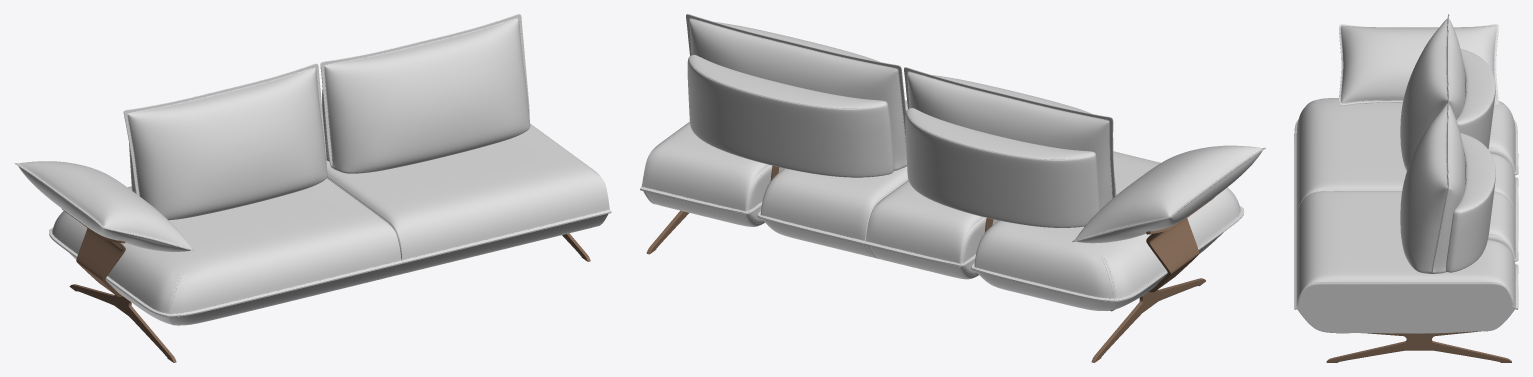
The model's file is ST_HILKER_BERLIN_LH_RH.glb.
3 renders of one model, left to right at view 1: azimuth 30°, elevation 25°; view 2: azimuth 150°, elevation 25°; view 3: azimuth 270°, elevation 25°, orthographic. The views are drawn at different scales.
Visible parts, largest first — view 1: ST_HILKER_BERLIN_LH_RH; view 2: ST_HILKER_BERLIN_LH_RH; view 3: ST_HILKER_BERLIN_LH_RH.
Part boxes in pixels (x1,y1,x2,y2): ST_HILKER_BERLIN_LH_RH: [14, 14, 611, 362]; ST_HILKER_BERLIN_LH_RH: [640, 14, 1265, 362]; ST_HILKER_BERLIN_LH_RH: [1294, 14, 1518, 362].
Bounding box in the file's own units: 2.61 × 1.02 × 1.17.
